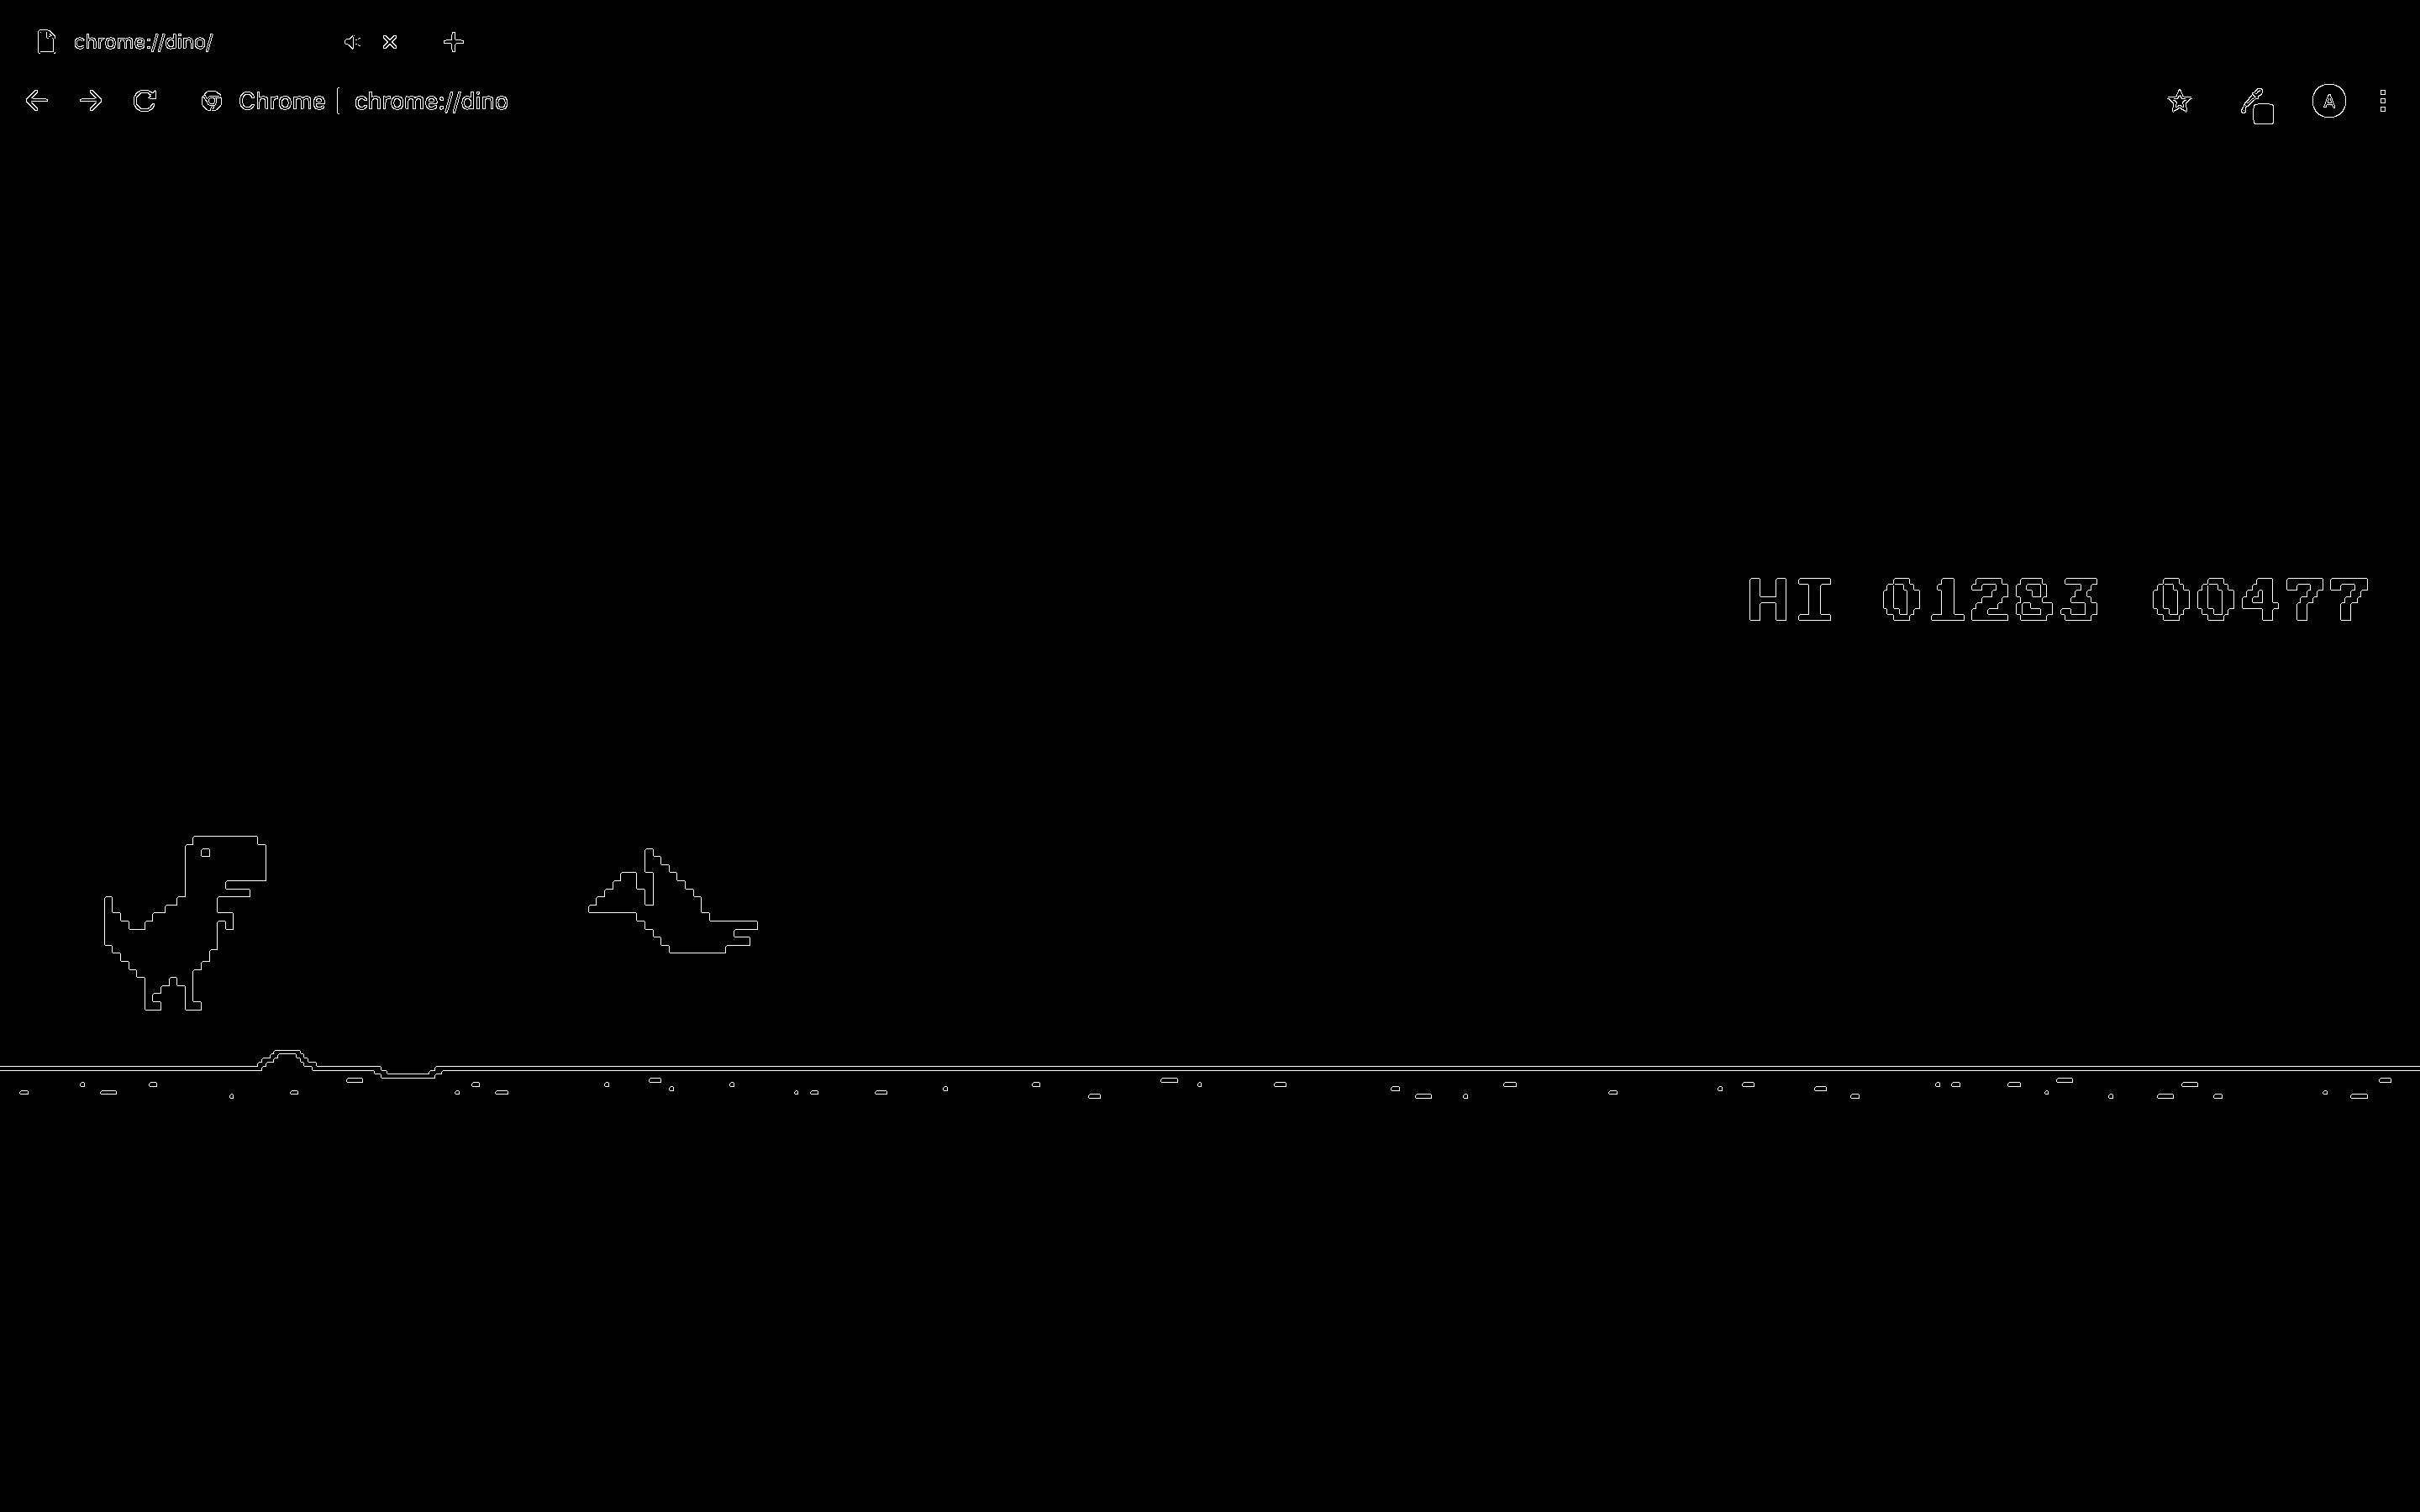Bird: (589, 850, 770, 965)
Dino: (106, 841, 268, 1014)
